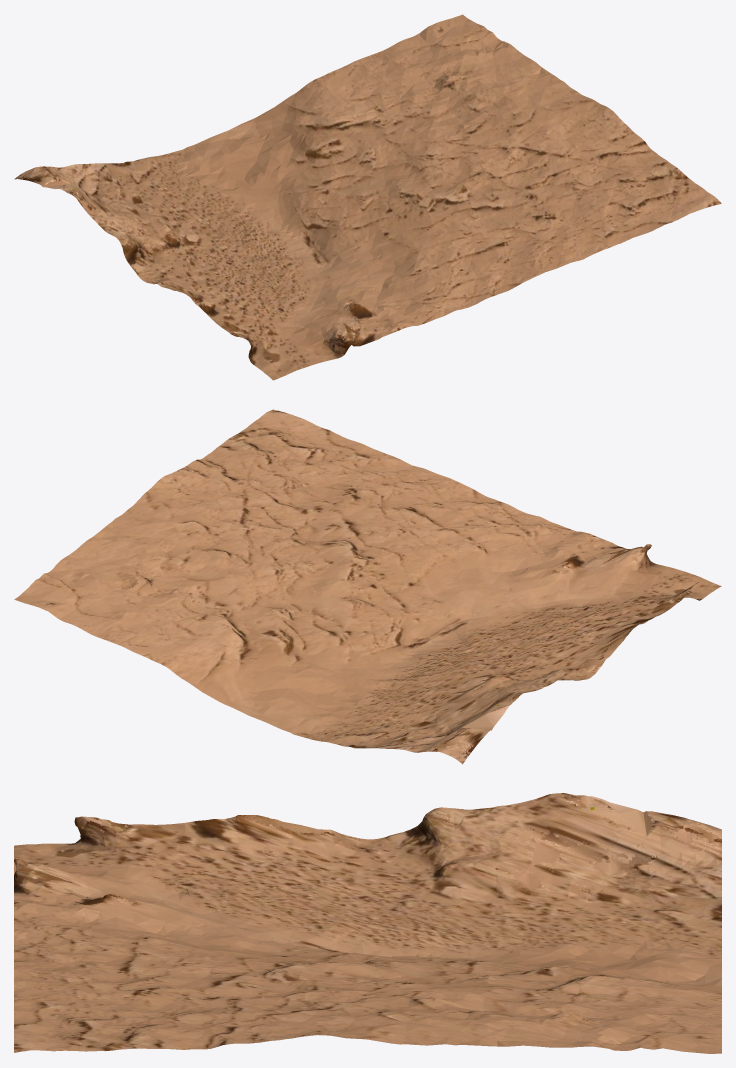
3 renders of one model, top to bottom at view 1: azimuth 30°, elevation 25°; view 2: azimuth 150°, elevation 25°; view 3: azimuth 270°, elevation 25°, orthographic. The views are drawn at different scales.
Bounding box in the file's own units: 1.04 × 0.1839 × 1.04.
2 materials, 2 textured.
